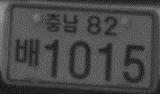0: (67, 39, 92, 80)
1: (96, 41, 114, 83), (43, 37, 60, 78)
2: (103, 15, 118, 36)
5: (122, 42, 145, 84)
8: (86, 14, 101, 35)
배: (13, 36, 40, 68)
충남_H: (44, 11, 78, 34)
